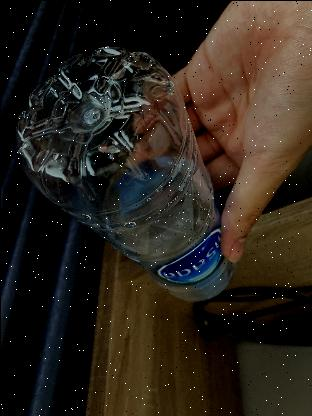Plastic Bottle: (10, 38, 236, 304)
